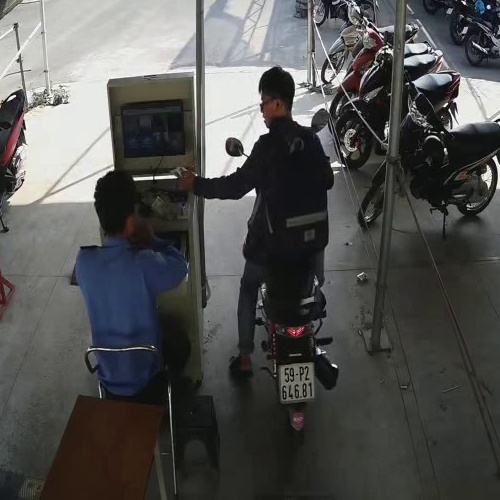number_plate: (277, 363, 317, 403)
